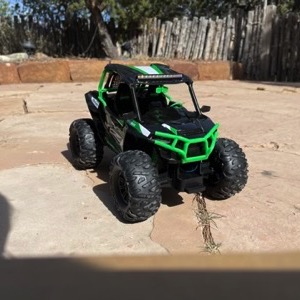polaris: (68, 62, 250, 226)
